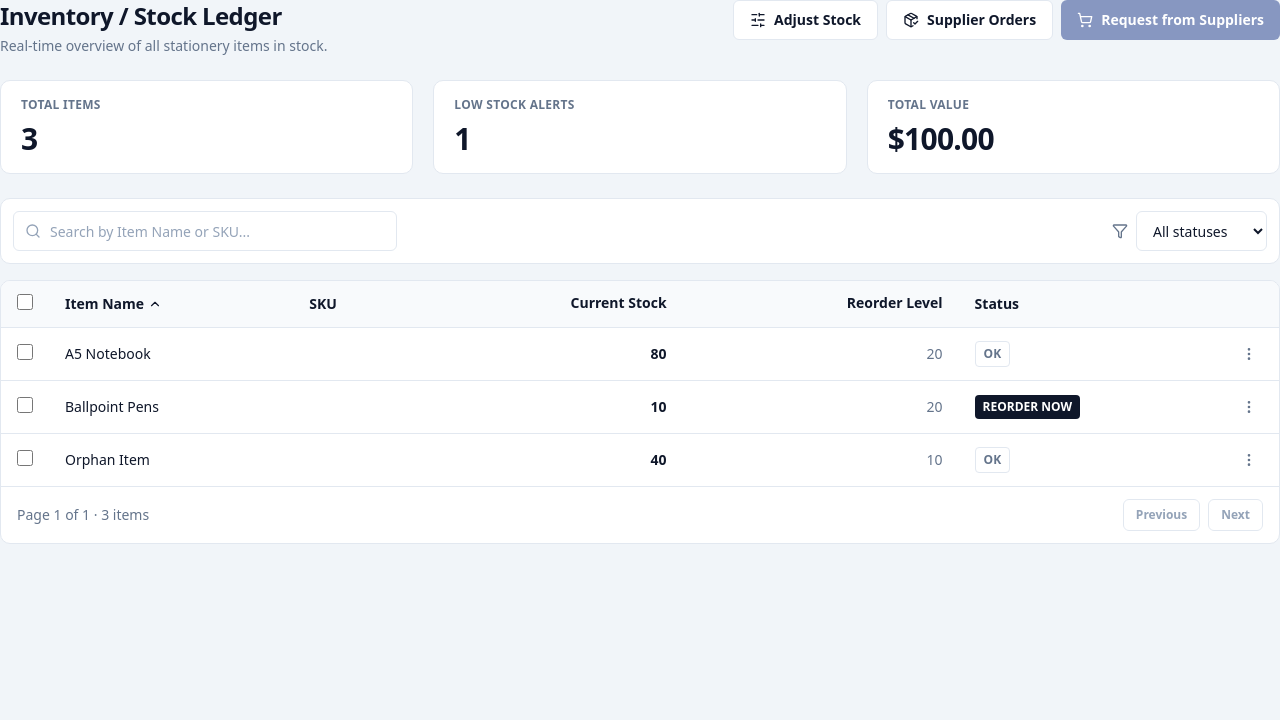
Inventory supplier-request cart › blocks submission until a supplier is chosen for an item that has none
The image size is (1280, 720).
Expected: the text "Orphan Item" is shown, [49,434,293,486]
Click the checkbox named "Select Orphan Item" at (25, 458), box [17,450,33,466]
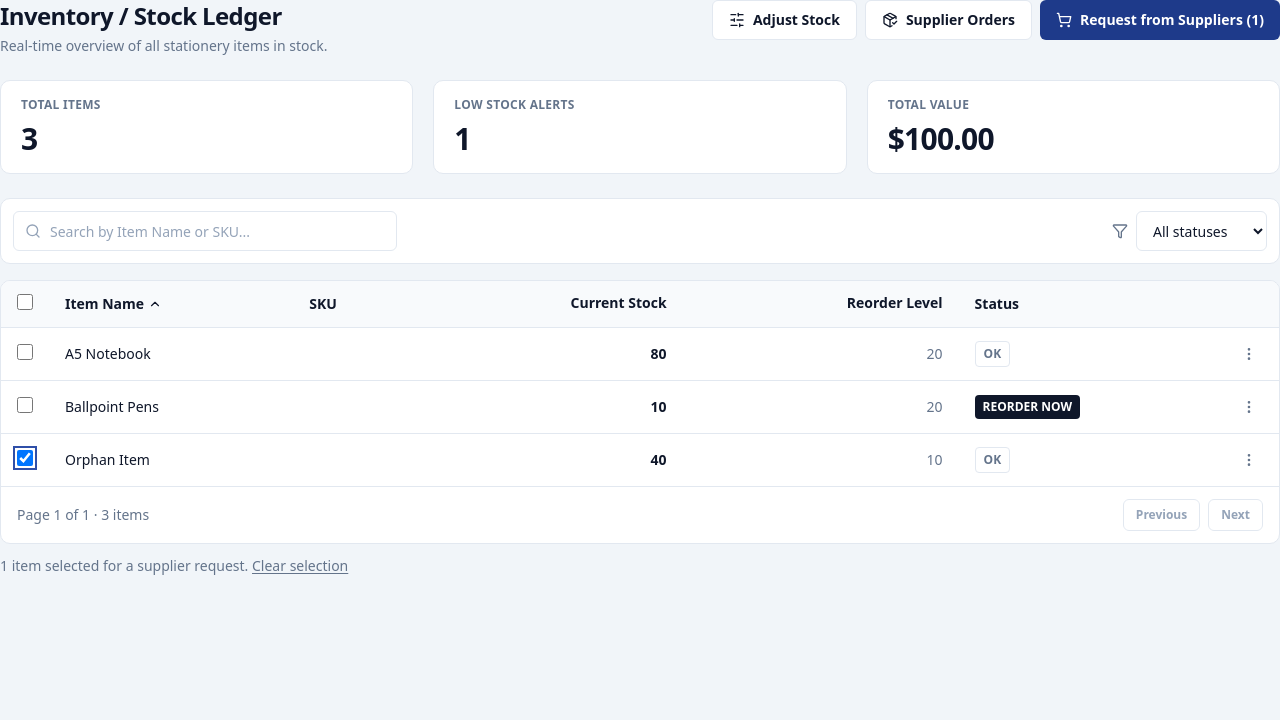
Click the button "Request from Suppliers (1)" at (1160, 20), box [1040,0,1279,40]
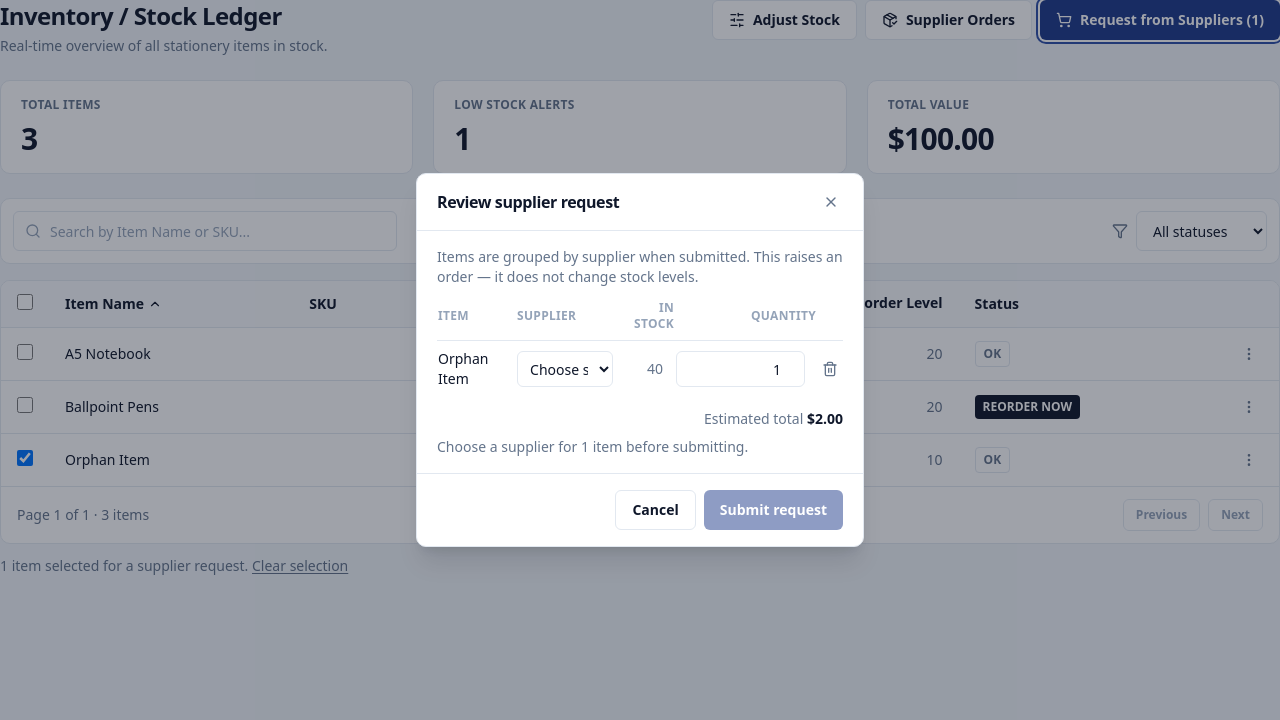
Expected: the button "Submit request" is disabled, [704,490,843,530]
Select "Fallback Supplier" in the dropdown named "supplier for Orphan Item" at (565, 369), box [517,351,613,387]
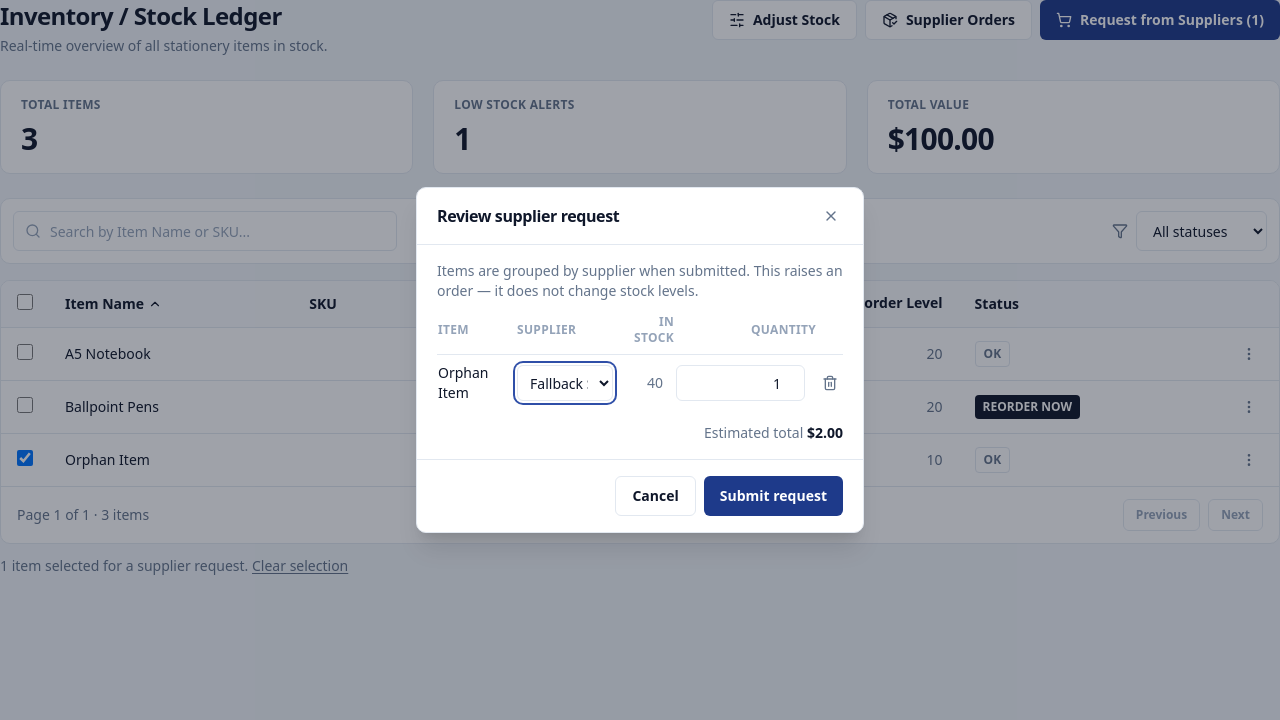
Expected: the button "Submit request" is enabled, [704,476,843,516]
